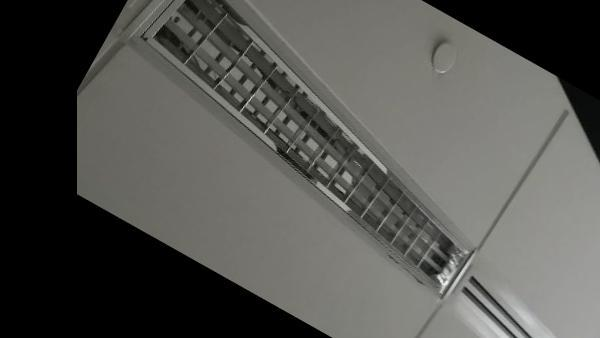light_off: (93, 0, 542, 313)
